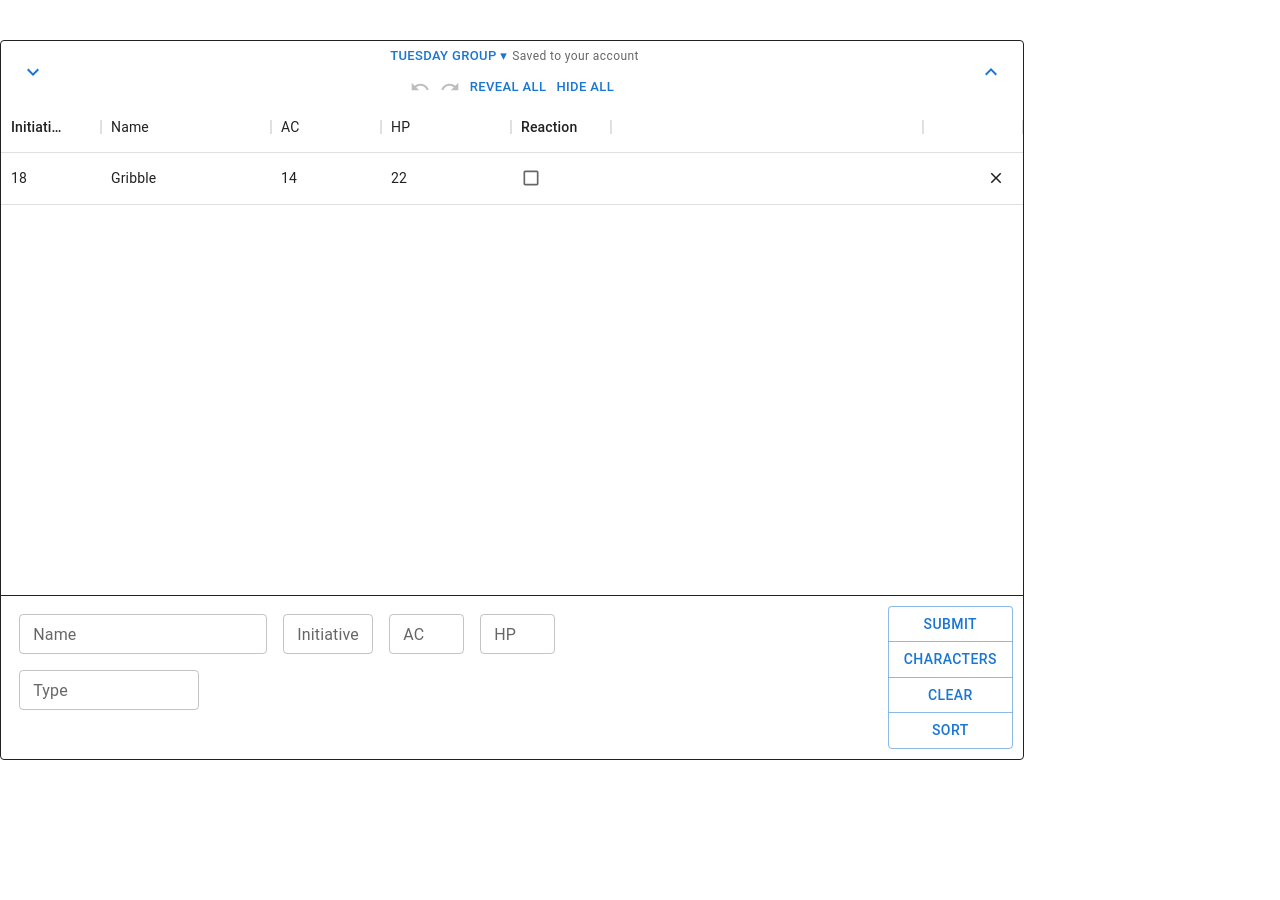
Test: TrackerPage › trackers › names the tracker in use, and lists the ones put away
The width and height of the screenshot is (1280, 900).
Expected: the text "Gribble" is shown, [111,168,156,188]
Click the button with aria-label "Trackers". click: [449, 56]
box: [385,41,512,72]
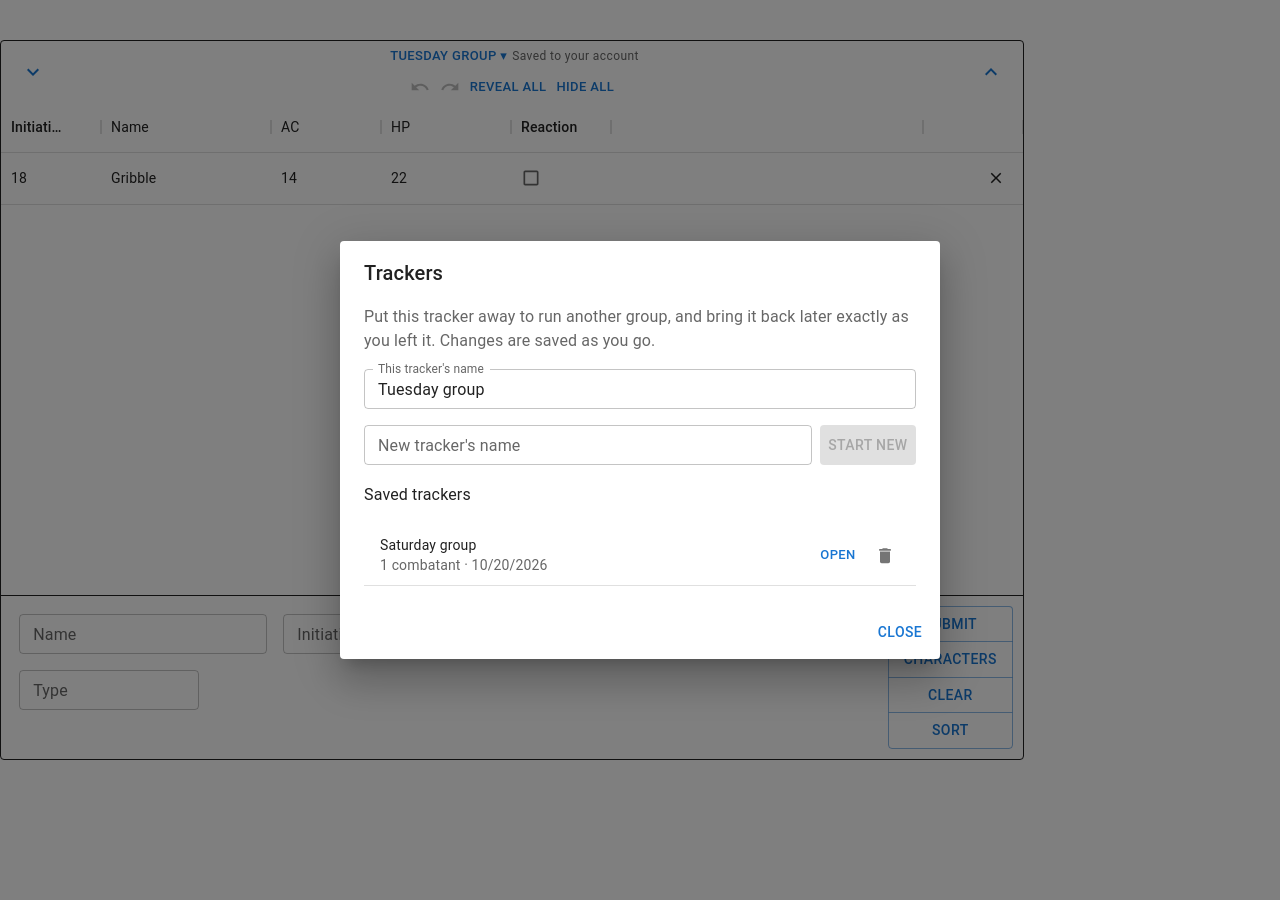
Expected: the field labelled "This tracker's name" holds "Tuesday group", [364,369,916,409]
Expected: the text "Saturday group" is shown, [380,537,476,553]
Expected: the text "1 combatant · 10/20/2026" is shown, [380,557,548,573]
